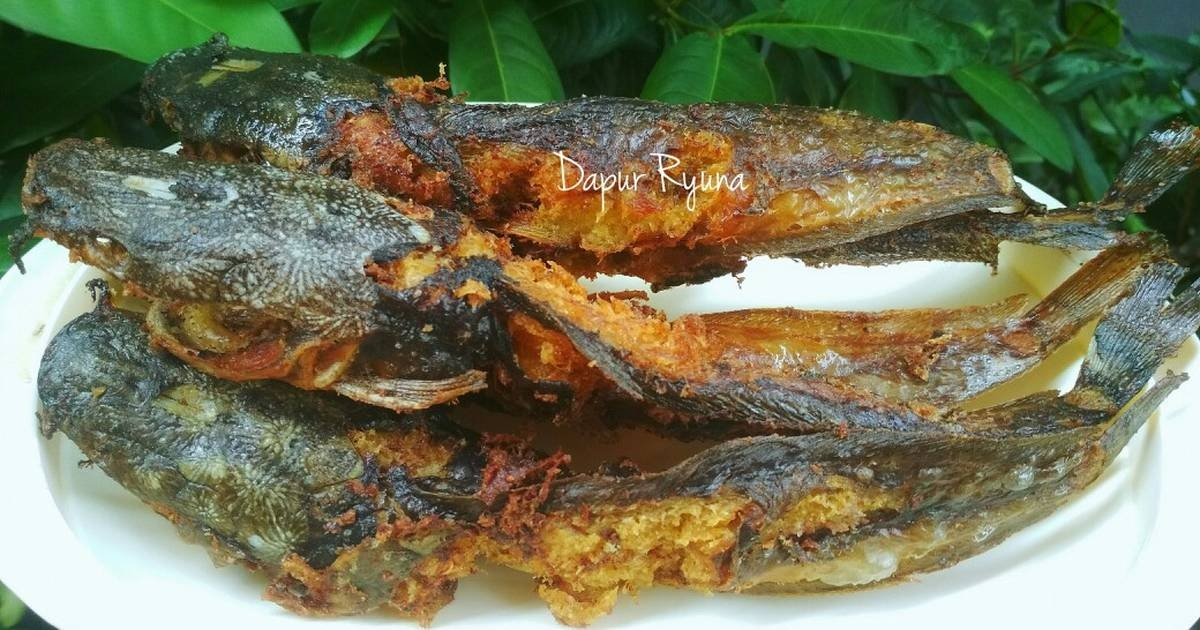pecel_lele: (19, 297, 1192, 614), (8, 121, 1151, 430), (140, 27, 1187, 265)
